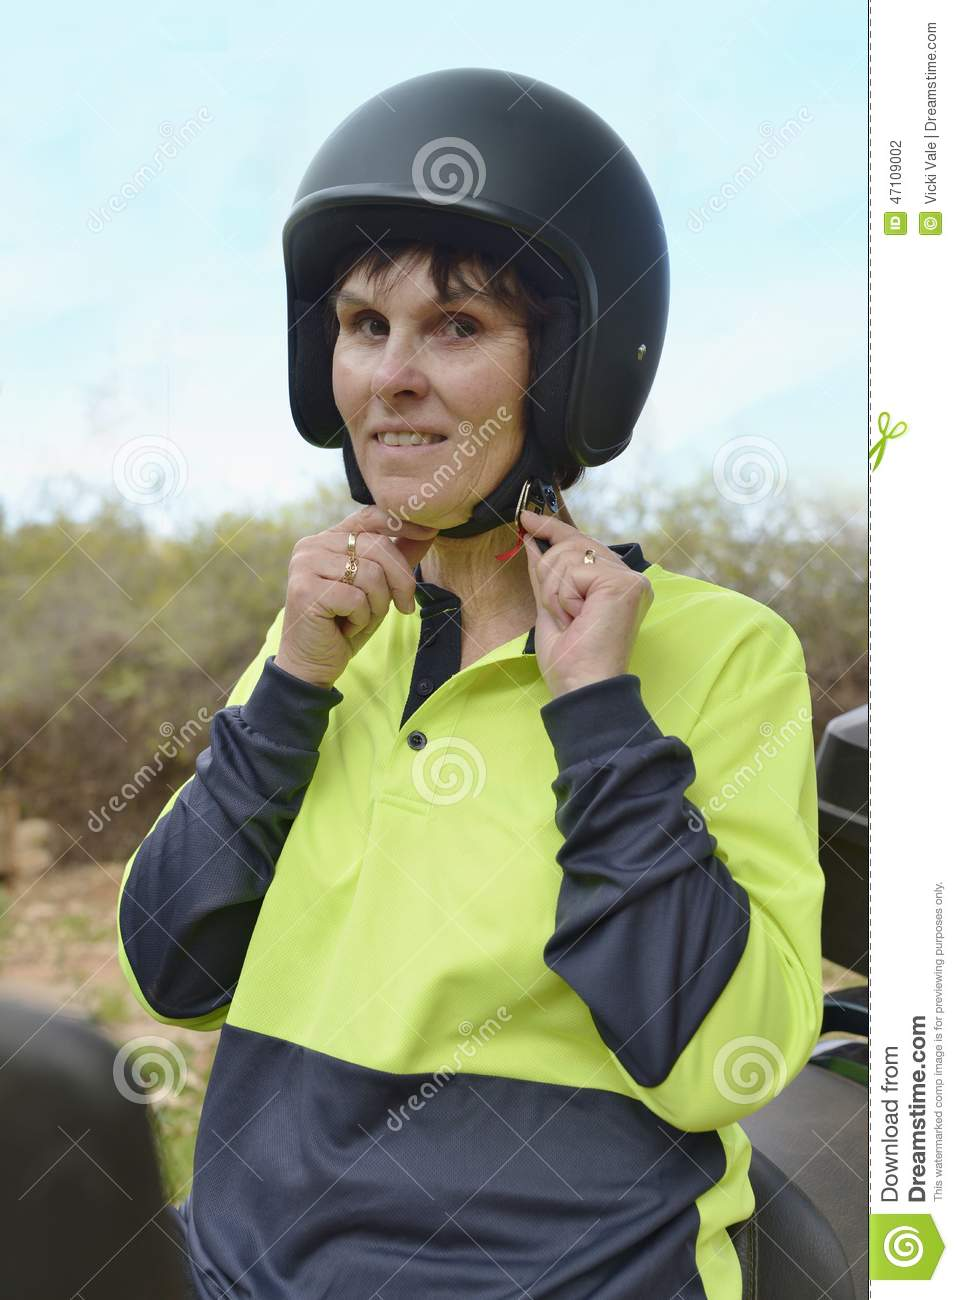helmet: (277, 45, 679, 491)
